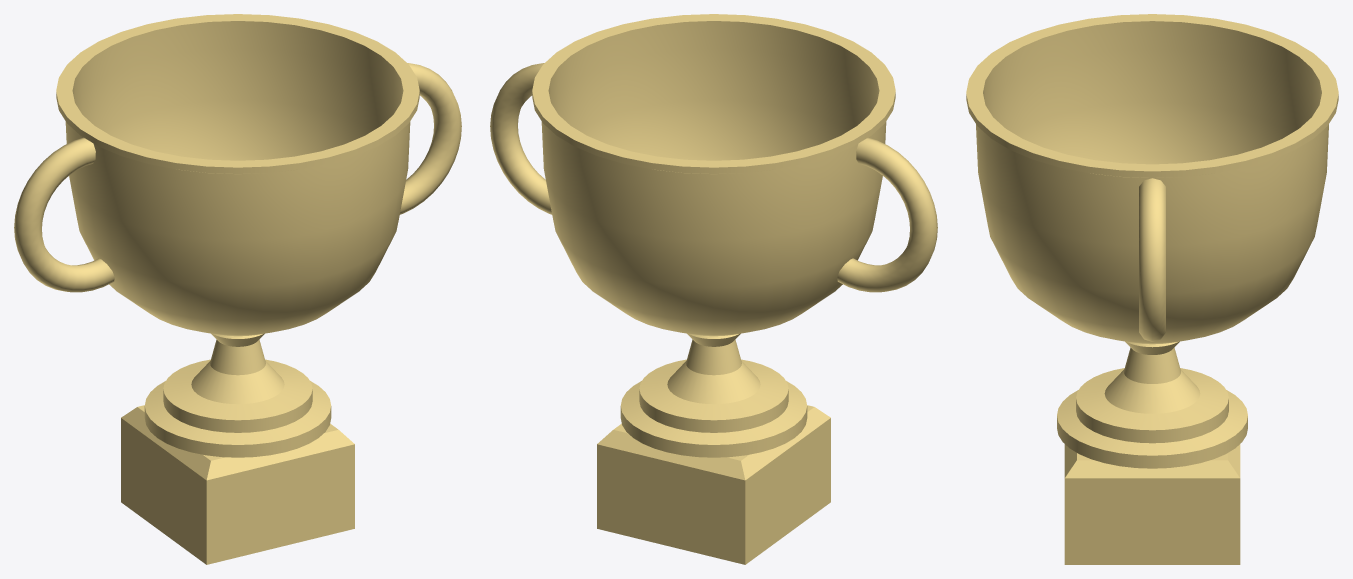
File: lovingcup.glb
3 renders of one model, left to right at view 1: azimuth 30°, elevation 25°; view 2: azimuth 150°, elevation 25°; view 3: azimuth 270°, elevation 25°, orthographic. The views are drawn at different scales.
Visible parts, largest first — view 1: lovingcup; view 2: lovingcup; view 3: lovingcup.
Boxes of the visible parts, left/top/right/bottom form: lovingcup: left=14, top=14, right=461, bottom=564; lovingcup: left=490, top=14, right=937, bottom=564; lovingcup: left=966, top=14, right=1338, bottom=564.
Bounding box in the file's own units: 1.1 × 1 × 0.78.
